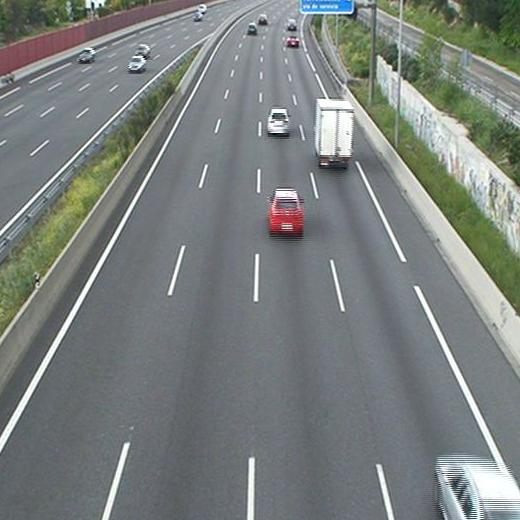car: (435, 455, 520, 519), (268, 186, 304, 236), (267, 107, 290, 138), (286, 35, 300, 48), (248, 23, 258, 35), (287, 19, 297, 30), (257, 14, 267, 23)
small-truck: (315, 99, 354, 169)
